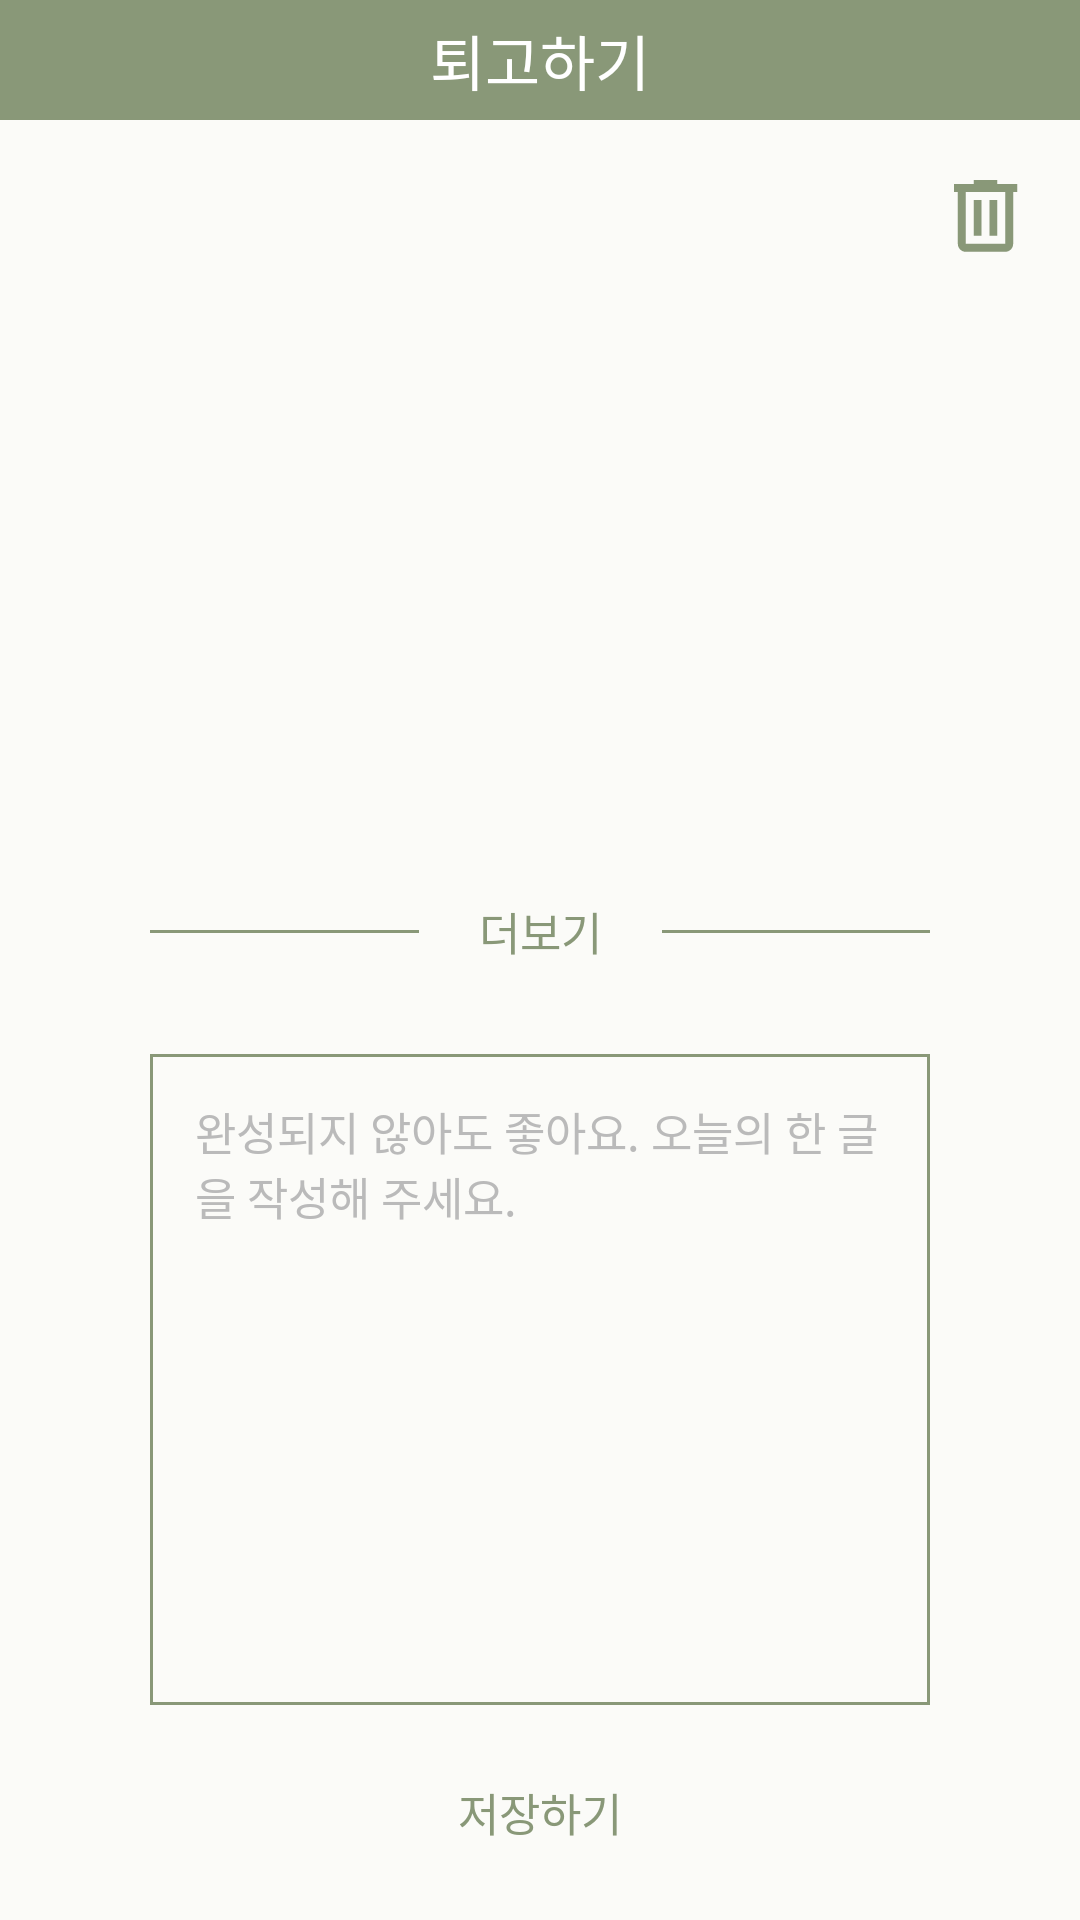

Where icons sit on this 1080w x 1920h app screen, as (x1, y1, x2, y2):
delete sentence: (954, 180, 1018, 252)
